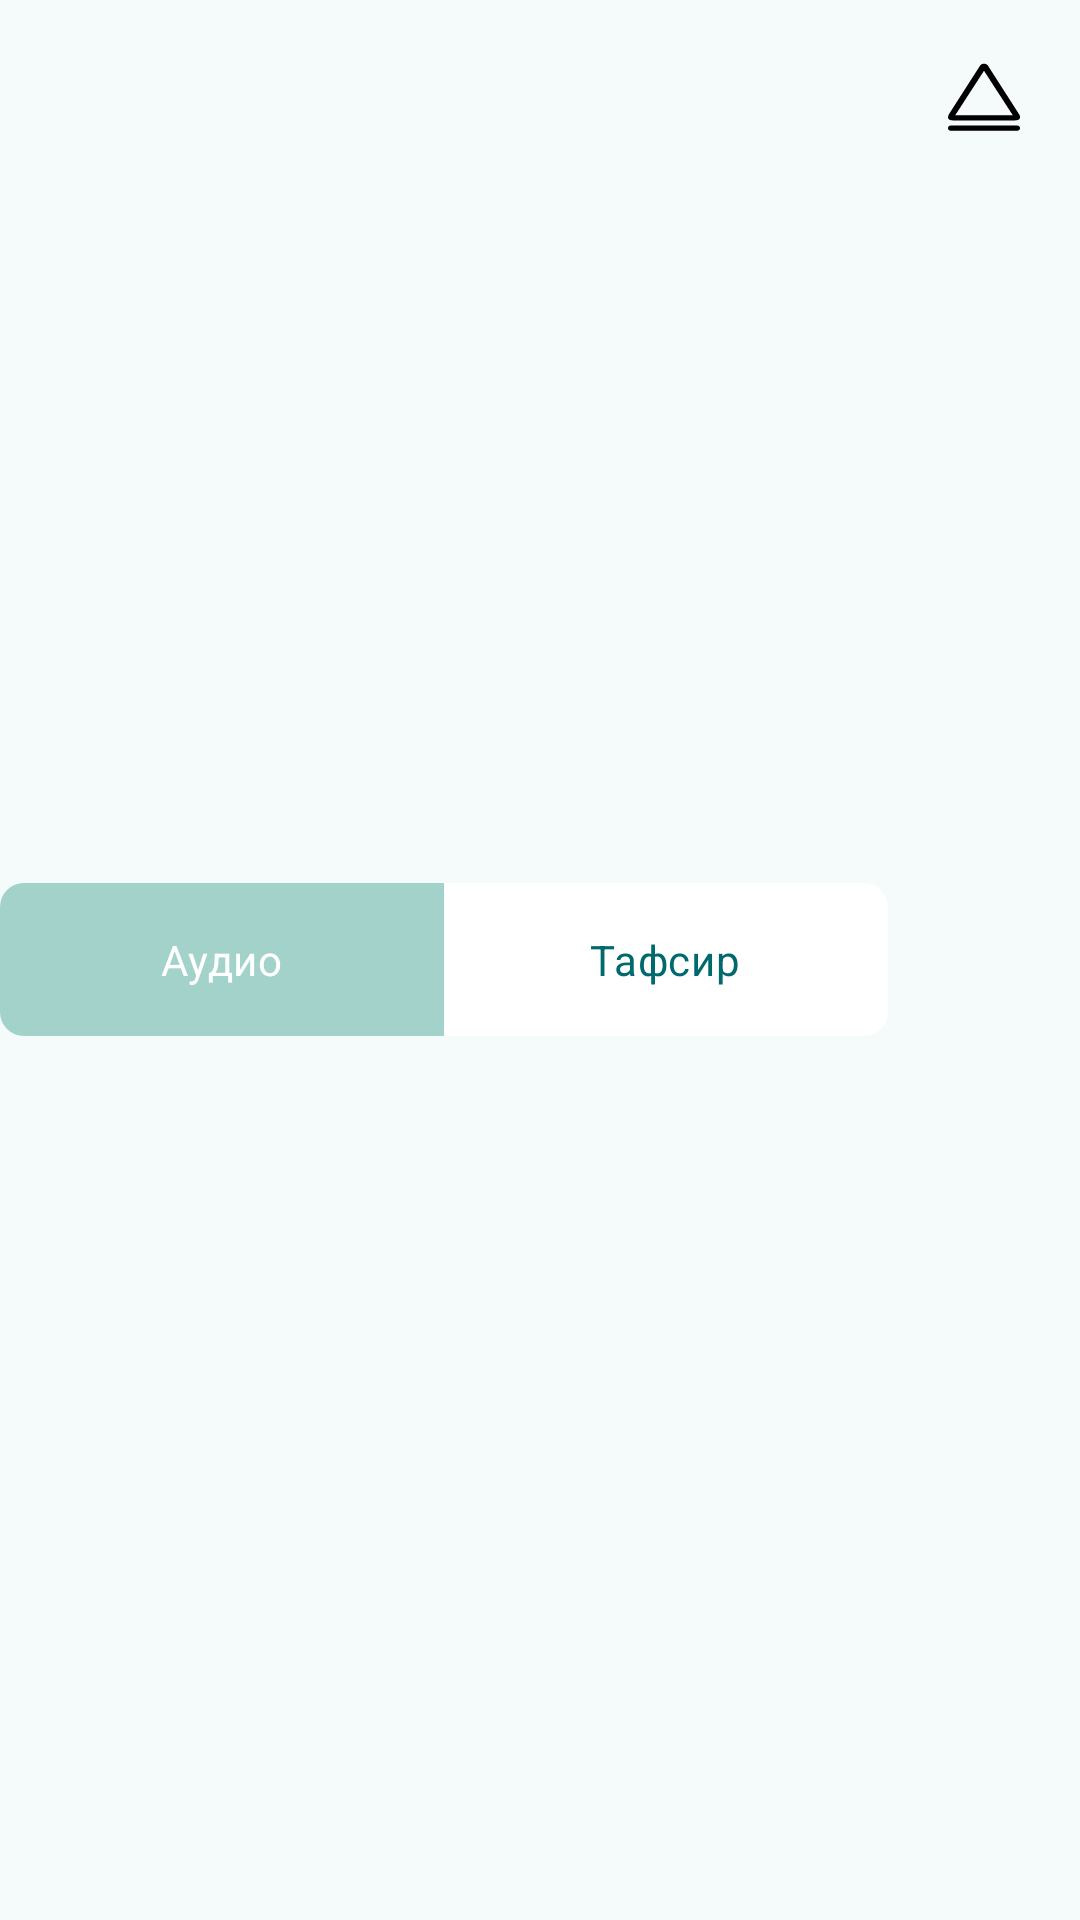

Where icons sit on this 1080*1920 app screen, as (x1, y1, x2, y2):
open: (948, 63, 1020, 131)
